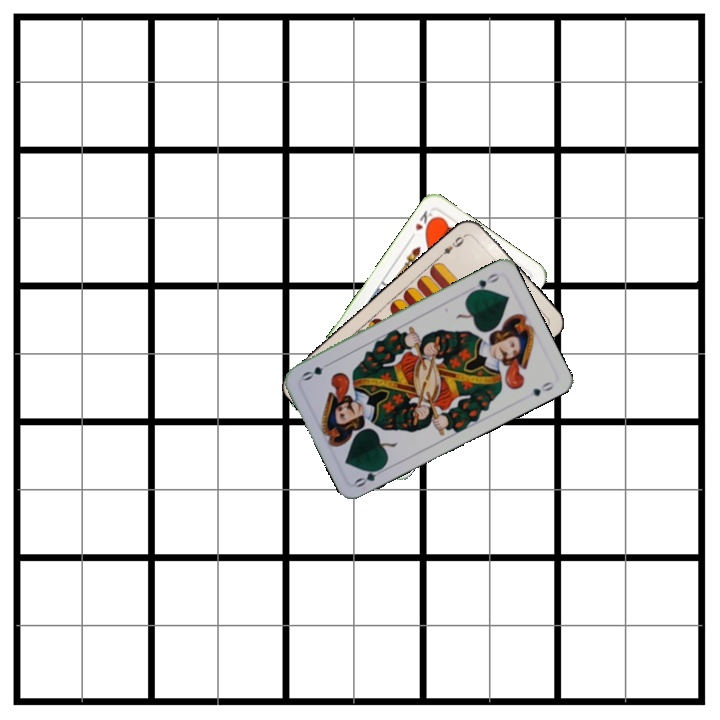E9: (435, 230, 470, 260)
GO: (351, 461, 390, 490), (466, 269, 502, 296)
HK: (406, 206, 438, 242)
